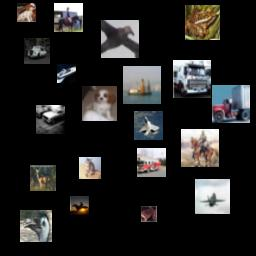airplane: (195, 179, 230, 214), (134, 111, 163, 140)
automobile: (36, 105, 65, 134), (24, 38, 50, 64)
bird: (101, 20, 139, 58), (20, 210, 52, 242)
cat: (79, 157, 101, 179)
deer: (30, 165, 56, 191)
dog: (82, 86, 117, 121), (17, 3, 36, 22)
frog: (185, 5, 220, 40), (141, 206, 157, 222)
ship: (123, 66, 161, 104), (57, 64, 76, 83)
truck: (173, 60, 211, 98), (212, 85, 250, 123), (137, 148, 166, 177)
